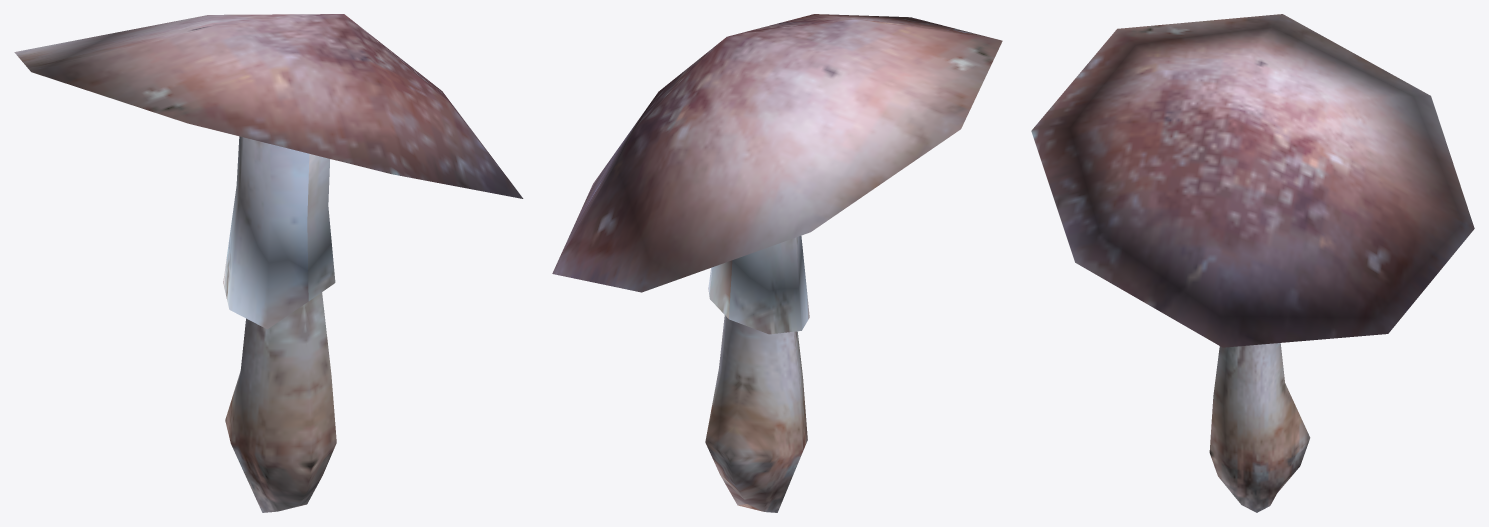
The model's file is SM_TOADSTOOL_05.FBX.
3 renders of one model, left to right at view 1: azimuth 30°, elevation 25°; view 2: azimuth 150°, elevation 25°; view 3: azimuth 270°, elevation 25°, orthographic. The views are drawn at different scales.
Parts seen in each view (by area): view 1: SM_TOADSTOOL_05; view 2: SM_TOADSTOOL_05; view 3: SM_TOADSTOOL_05.
Part boxes in pixels (bbox=[...]): SM_TOADSTOOL_05: bbox=[14, 14, 523, 512]; SM_TOADSTOOL_05: bbox=[552, 14, 1002, 512]; SM_TOADSTOOL_05: bbox=[1031, 14, 1474, 512].
Bounding box in the file's own units: 12.26 × 13.1 × 13.5.
